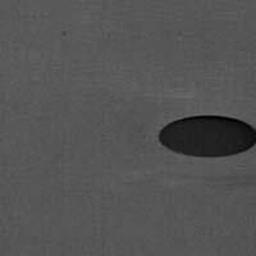Punching: (159, 114, 256, 159)
